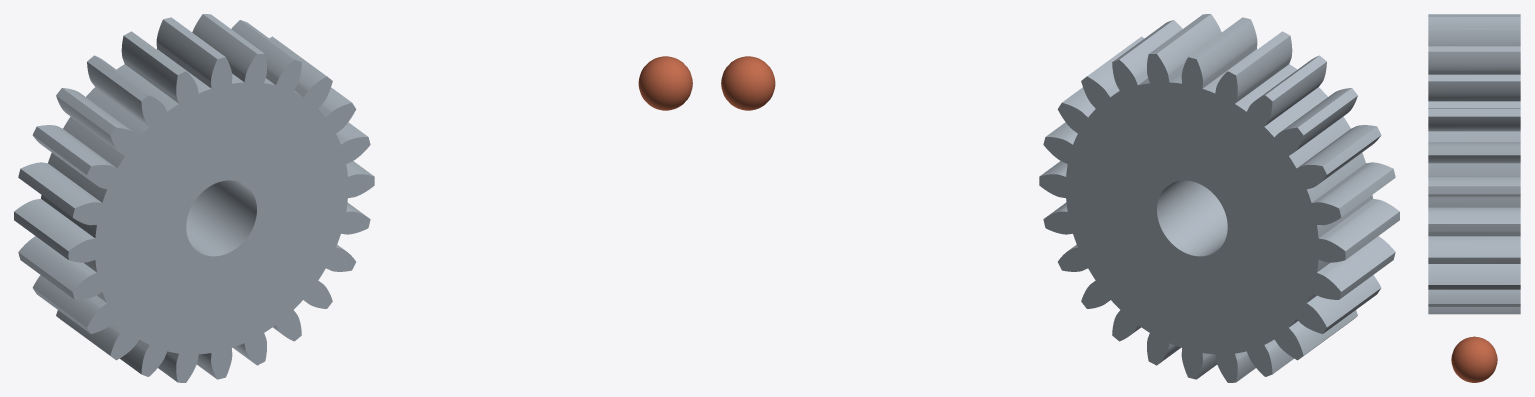
File: damaged-tooth.glb
3 views of the same model, side by side, from view 1: azimuth 30°, elevation 25°; view 2: azimuth 150°, elevation 25°; view 3: azimuth 270°, elevation 25° (orthographic). The views are drawn at different scales.
Parts seen in each view (by area): view 1: spur_gear, preserved_sphere; view 2: spur_gear, preserved_sphere; view 3: spur_gear, preserved_sphere.
Boxes of the visible parts, <box> form: spur_gear: <box>14,14,374,382</box>; preserved_sphere: <box>638,56,692,110</box>; spur_gear: <box>1039,14,1399,382</box>; preserved_sphere: <box>721,56,775,110</box>; spur_gear: <box>1428,14,1520,314</box>; preserved_sphere: <box>1451,336,1497,382</box>.
Size of the model in its own units: 0.055 by 0.026 by 0.008.
